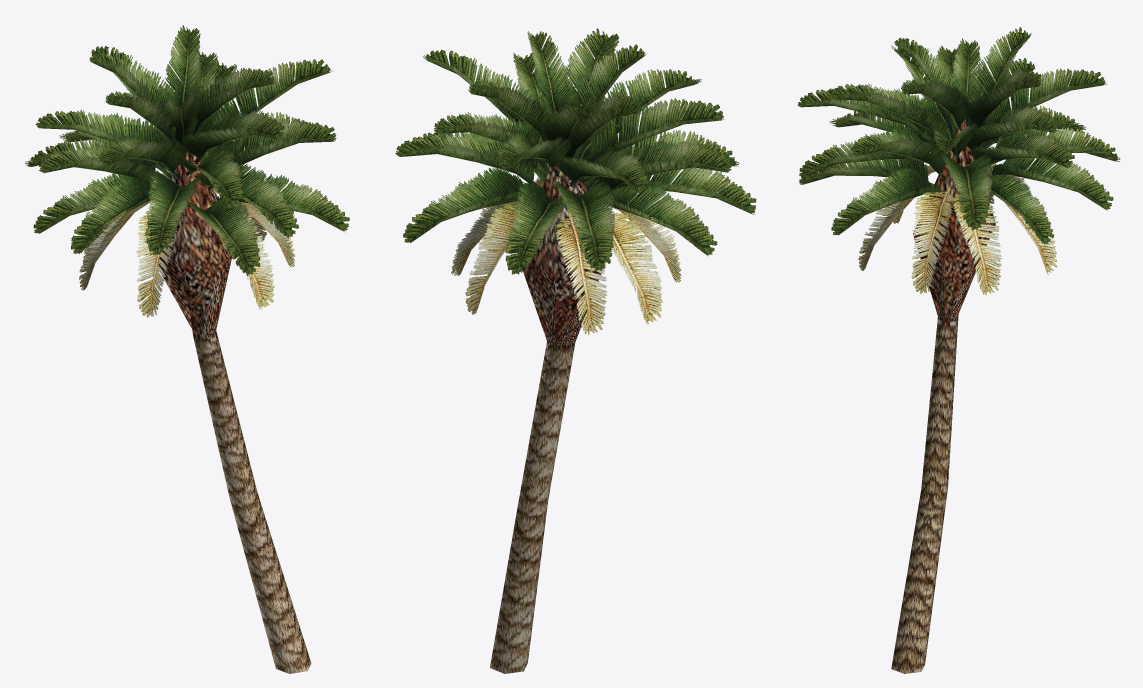
The model's file is tree_cretan_date_palm_07.dae.
The picture shows the model from 3 angles, left to right: view 1: azimuth 30°, elevation 25°; view 2: azimuth 150°, elevation 25°; view 3: azimuth 270°, elevation 25°; orthographic projection. The views are drawn at different scales.
Visible parts, largest first — view 1: tree_cretan_date_palm_07; view 2: tree_cretan_date_palm_07; view 3: tree_cretan_date_palm_07.
Part boxes in pixels (<box>): tree_cretan_date_palm_07: <box>25,25,349,673</box>; tree_cretan_date_palm_07: <box>395,28,756,673</box>; tree_cretan_date_palm_07: <box>797,27,1120,673</box>.
Bounding box in the file's own units: 9.14 × 17.73 × 9.21.
